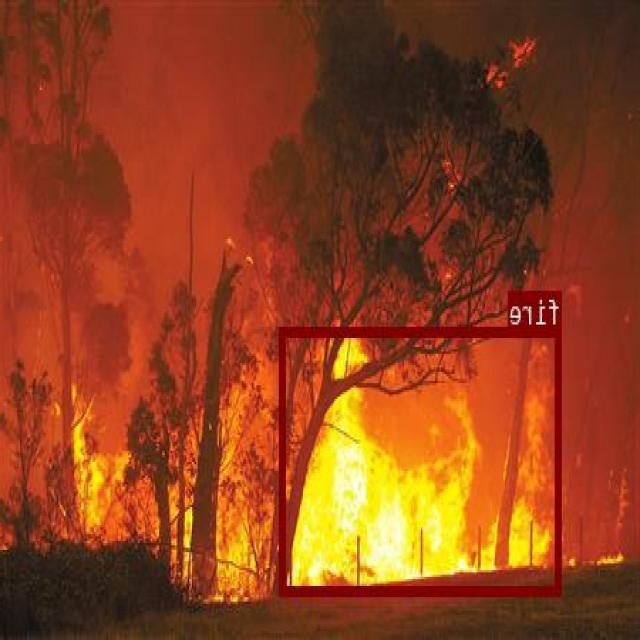fire: (281, 325, 562, 594)
